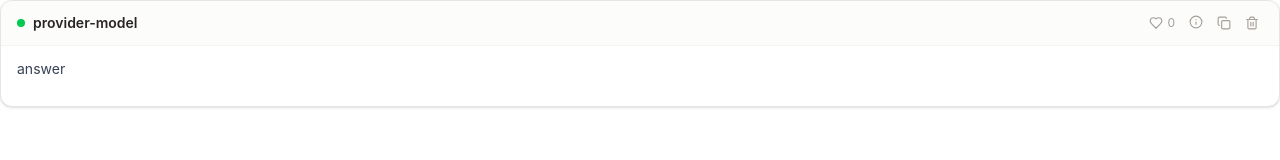
Test: ModelResponsePanel › surfaces delete errors inline
Click the button named "Delete response" at [1252, 23], box [1241,12,1263,34]
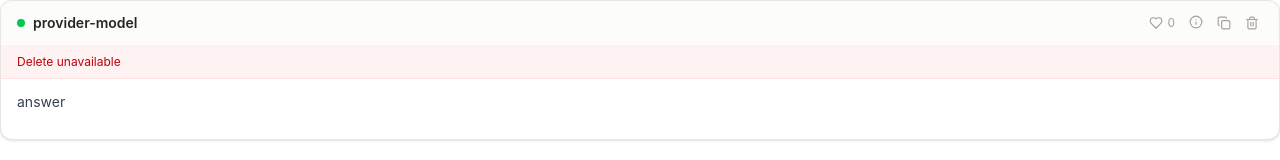
Expected: the text "provider-model" is shown, [33,13,138,33]
Now the message reads "Delete unavailable", box [17,54,121,69]
